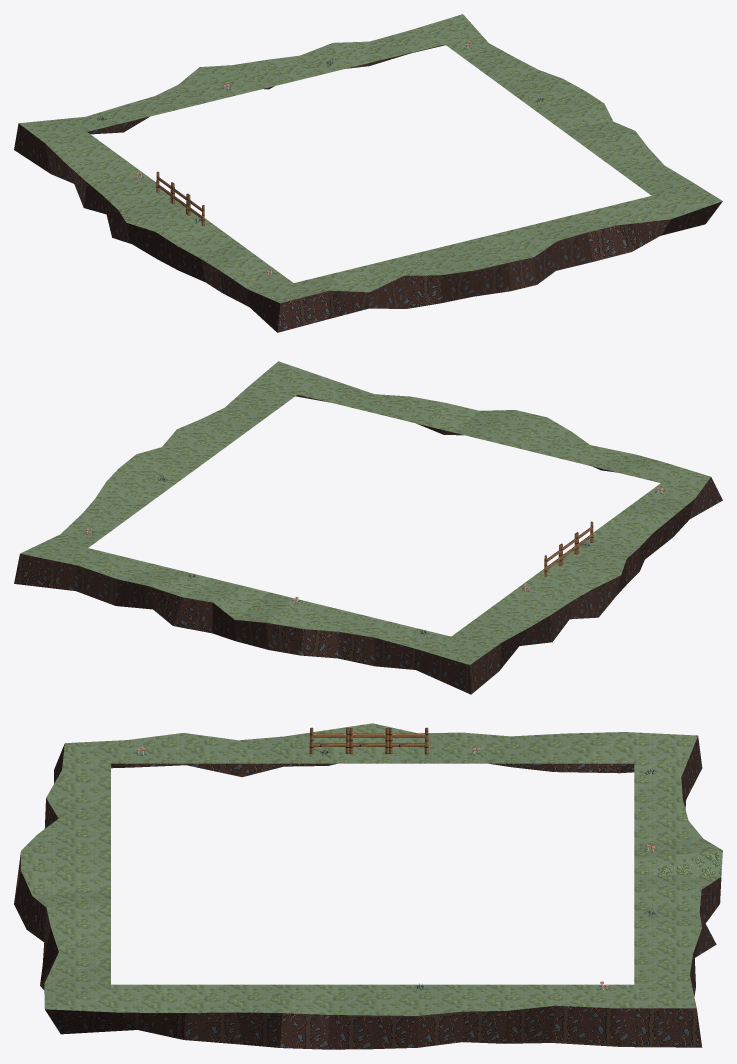
Rendered from entorno.glb.
The picture shows the model from 3 angles, top to bottom: view 1: azimuth 30°, elevation 25°; view 2: azimuth 150°, elevation 25°; view 3: azimuth 270°, elevation 25°; orthographic projection. The views are drawn at different scales.
Visible parts, largest first — view 1: bosque_entorno; view 2: bosque_entorno; view 3: bosque_entorno.
Boxes of the visible parts, x1,y1,x2,y2 form: bosque_entorno: (14, 14, 722, 332); bosque_entorno: (14, 361, 722, 694); bosque_entorno: (14, 723, 722, 1049).
Bounding box in the file's own units: 16.31 × 1.69 × 16.52.
Materials: 7 (5 with a texture image).
